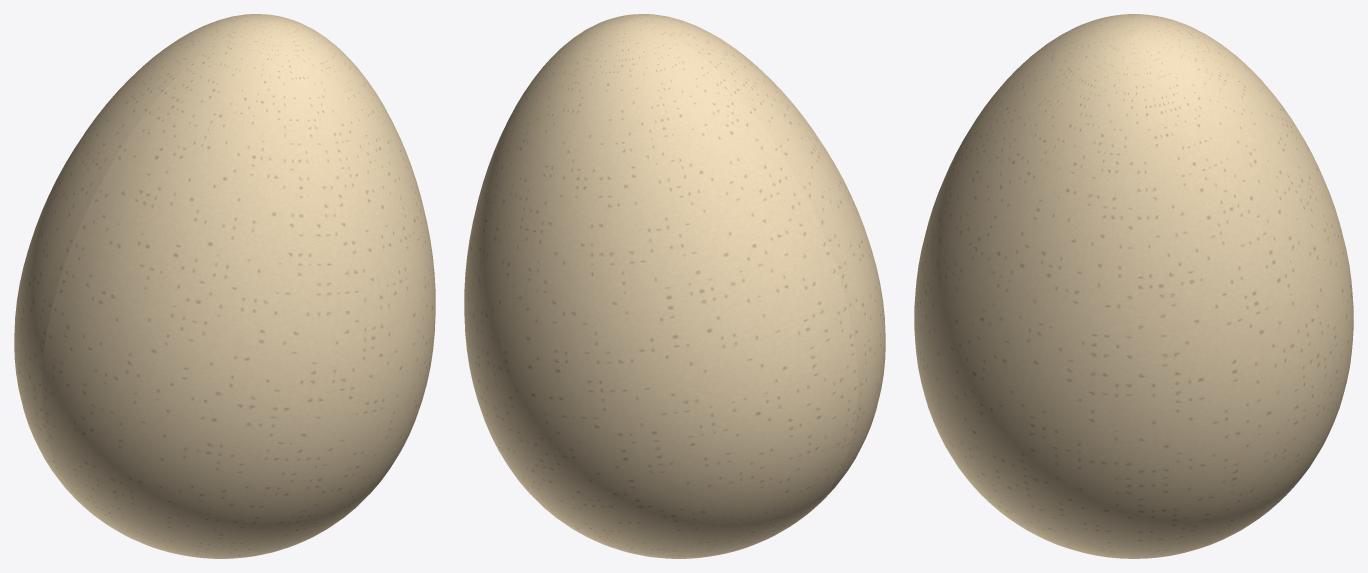
File: hen_egg.glb
3 renders of one model, left to right at view 1: azimuth 30°, elevation 25°; view 2: azimuth 150°, elevation 25°; view 3: azimuth 270°, elevation 25°, orthographic. The views are drawn at different scales.
Parts seen in each view (by area): view 1: Warm speckled eggshell; view 2: Warm speckled eggshell; view 3: Warm speckled eggshell.
Boxes of the visible parts, <box> form: Warm speckled eggshell: <box>14,14,435,558</box>; Warm speckled eggshell: <box>464,14,885,558</box>; Warm speckled eggshell: <box>914,14,1353,558</box>.
Bounding box in the file's own units: 0.0451 × 0.0596 × 0.0447.
1 material, 1 textured.
